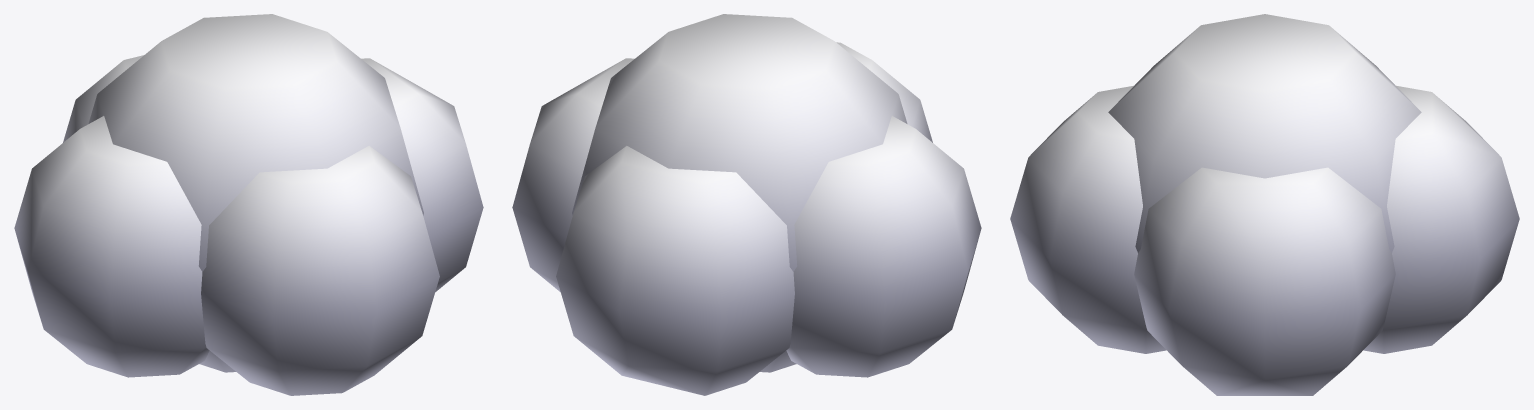
The model's file is cc0-smoke-lod1.glb.
The picture shows the model from 3 angles, left to right: view 1: azimuth 30°, elevation 25°; view 2: azimuth 150°, elevation 25°; view 3: azimuth 270°, elevation 25°; orthographic projection.
Visible parts, largest first — view 1: part_0; view 2: part_0; view 3: part_0.
Boxes of the visible parts, x1,y1,x2,y2 form: part_0: (14,14,483,395); part_0: (512,14,981,395); part_0: (1010,14,1519,395).
Size of the model in its own units: 0.277 by 0.1704 by 0.277.
1 material, 1 textured.
